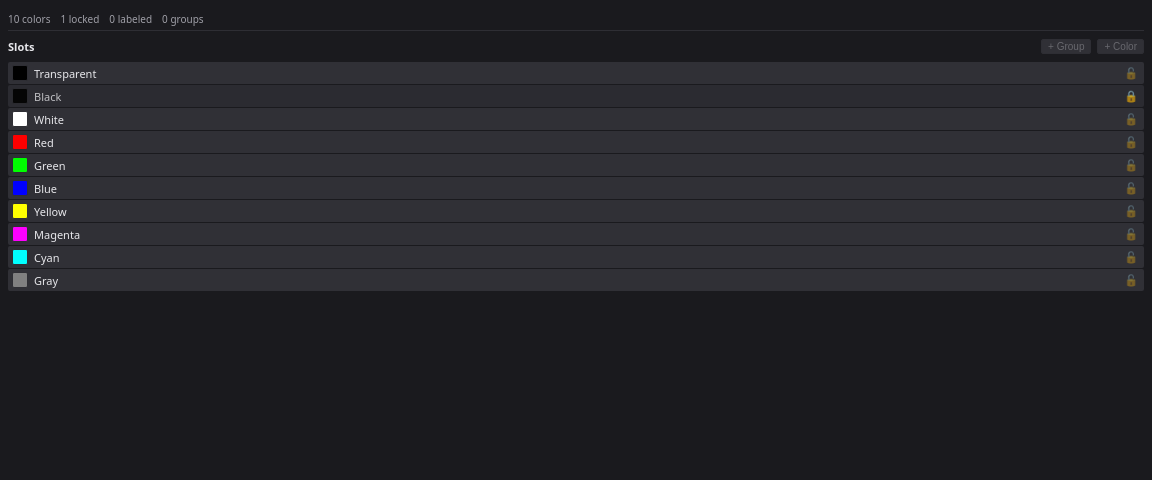
Test: PalettePropsPanel › locked color cannot be removed
Click the element with test id "palette-slot-1": (576, 96) [8, 85, 1144, 107]
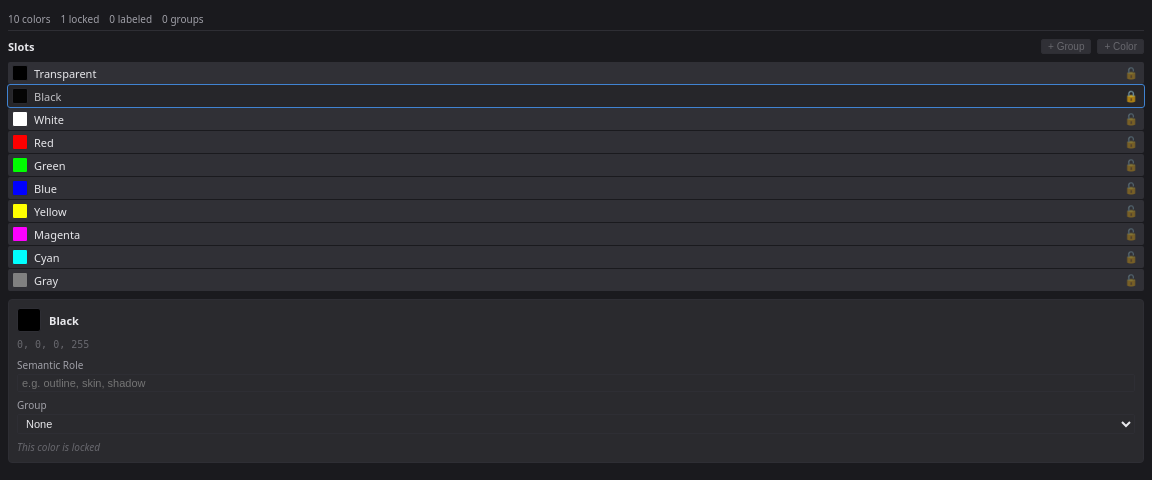
Check: the text "This color is locked" is shown, box [17, 440, 100, 454]
